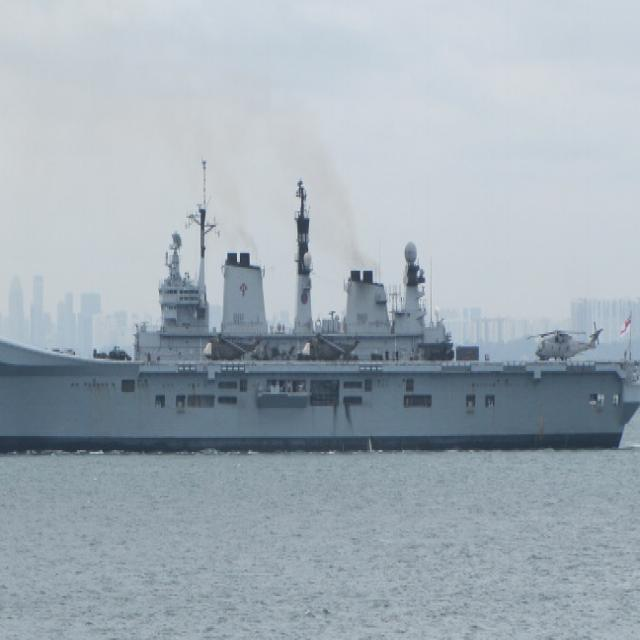Portanaves: (1, 145, 640, 460)
